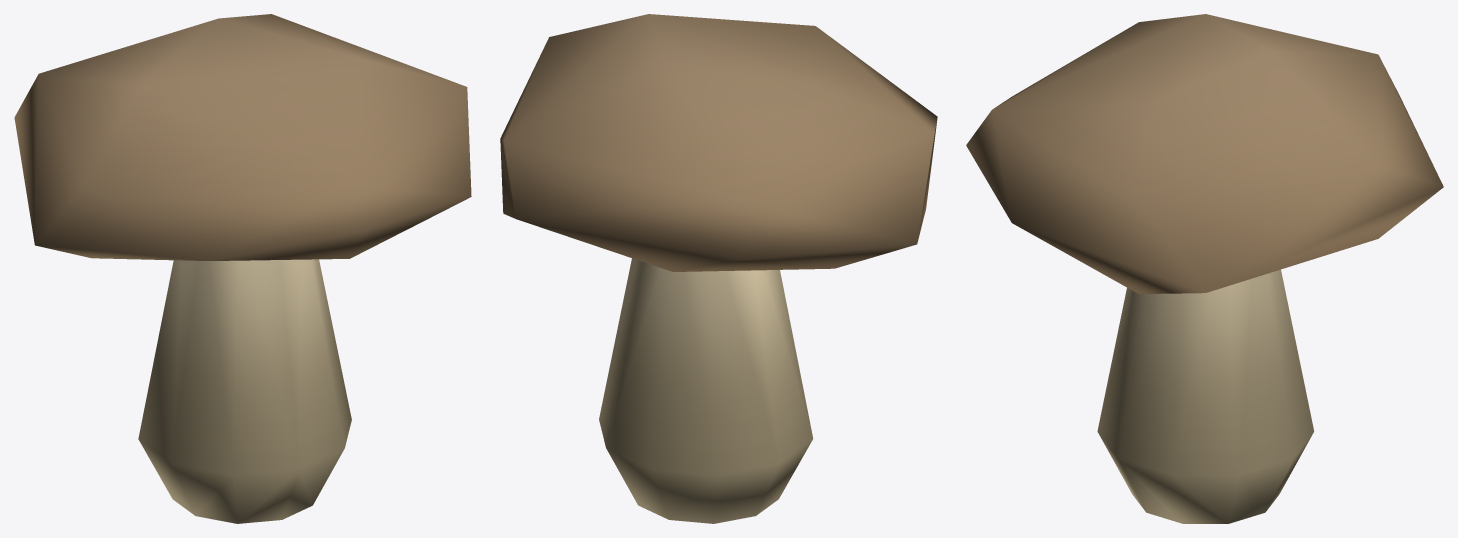
Rendered from Mushroom_Brown.gltf.
The picture shows the model from 3 angles, left to right: view 1: azimuth 30°, elevation 25°; view 2: azimuth 150°, elevation 25°; view 3: azimuth 270°, elevation 25°; orthographic projection.
Visible parts, largest first — view 1: Mushroom_Brown; view 2: Mushroom_Brown; view 3: Mushroom_Brown.
Part boxes in pixels (x1,y1,x2,y2): Mushroom_Brown: [14, 14, 471, 523]; Mushroom_Brown: [500, 14, 937, 523]; Mushroom_Brown: [966, 14, 1443, 523].
Bounding box in the file's own units: 0.2906 × 0.3 × 0.2916.
1 material, 1 textured.
